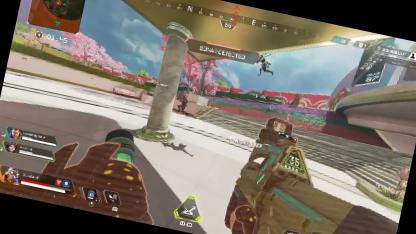Target: (174, 94, 190, 115), (257, 54, 273, 75)
